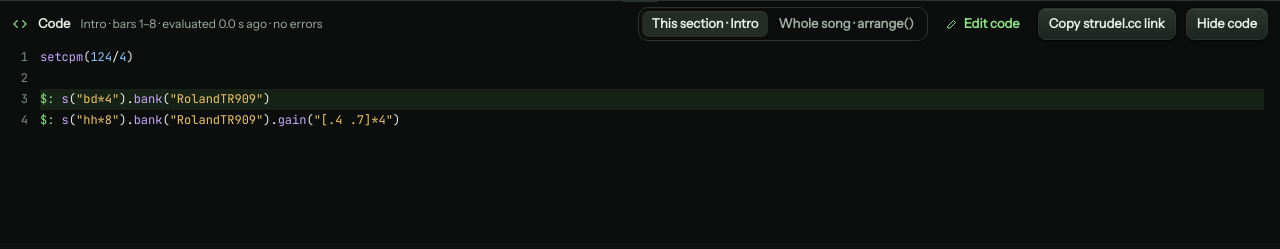
CodeDrawer › should show the parse error with line and column and leave the song unchanged in Edit code
Click the button "Edit code": (983, 24) [936,8,1030,40]
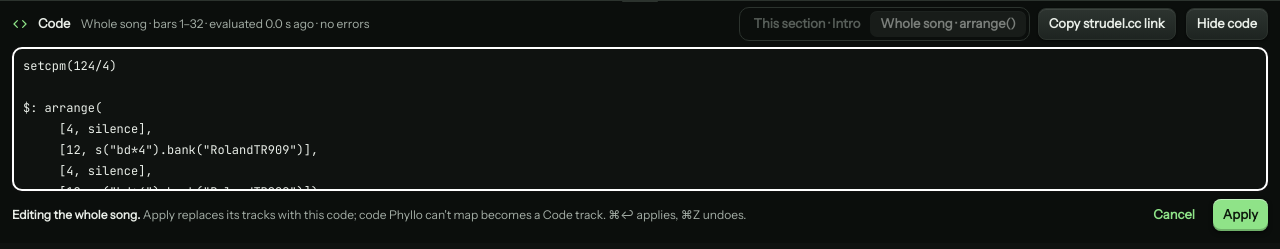
Replace the text in the text box named "Strudel code for the whole song" with "$: s(\"bd*4\"": (640, 119) [12,47,1268,191]
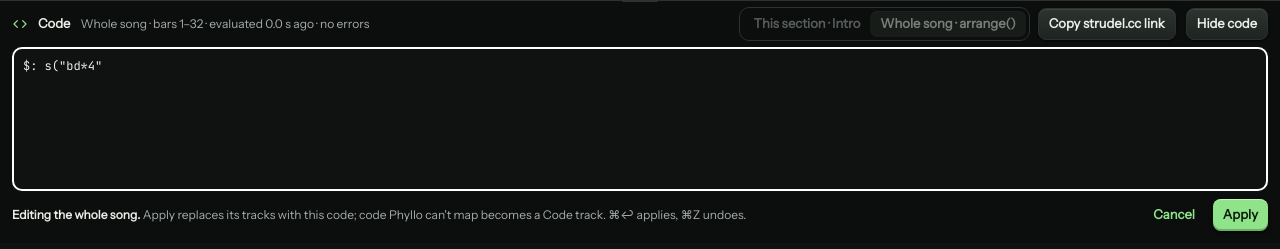
Click the button "Apply": (1240, 215) [1213,199,1268,231]
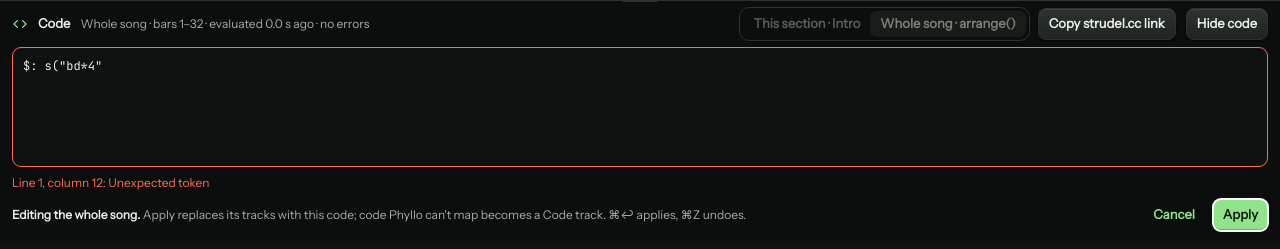
Expected: the message reads "Line 1, column 12: Unexpected token", [12,175,210,190]
